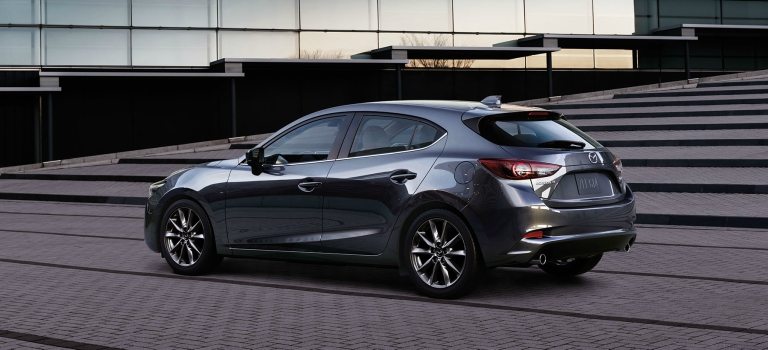Mazda3 Hatchback: (139, 92, 641, 301)
